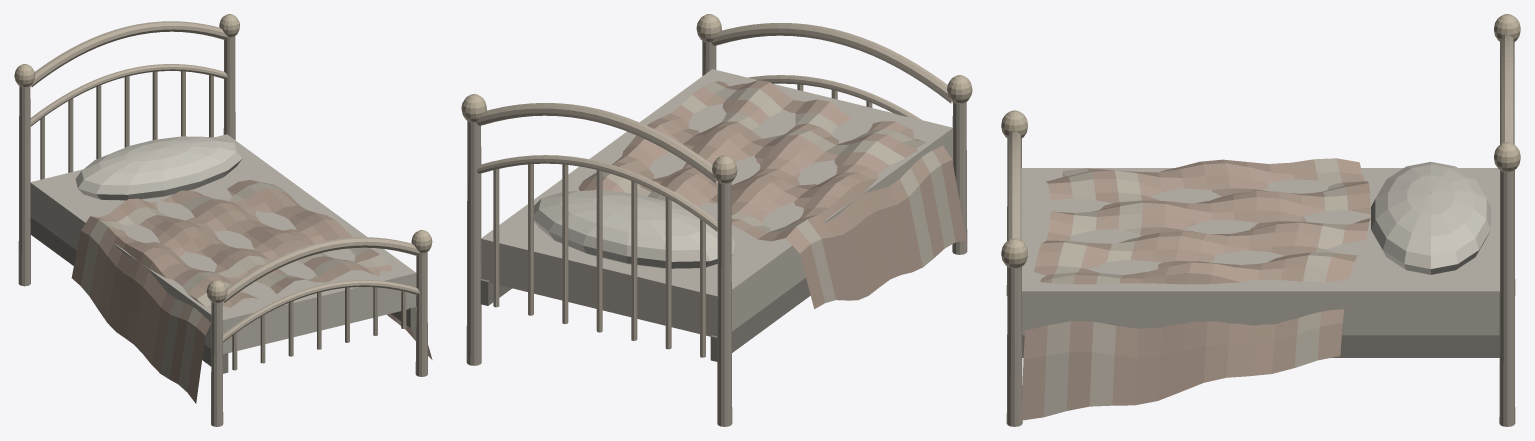
File: iron-bed.glb
3 renders of one model, left to right at view 1: azimuth 30°, elevation 25°; view 2: azimuth 150°, elevation 25°; view 3: azimuth 270°, elevation 25°, orthographic. The views are drawn at different scales.
Visible parts, largest first — view 1: Iron bed and quilt; view 2: Iron bed and quilt; view 3: Iron bed and quilt.
Part boxes in pixels (bbox=[...]): Iron bed and quilt: bbox=[14, 14, 432, 426]; Iron bed and quilt: bbox=[461, 14, 972, 426]; Iron bed and quilt: bbox=[1001, 14, 1520, 426].
Size of the model in its own units: 1.48 by 1.41 by 2.25.
